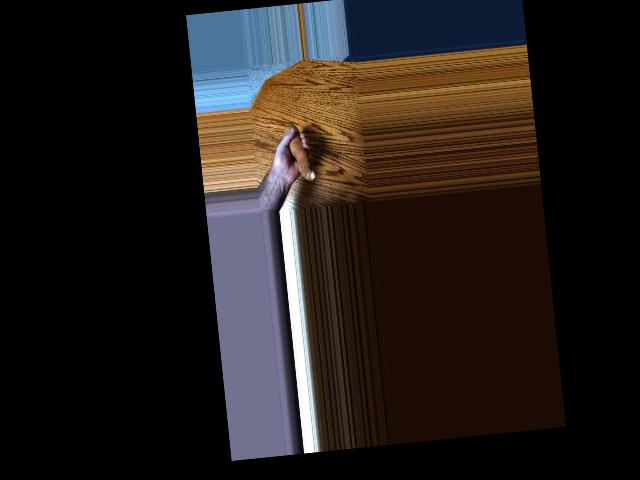sweet_potato: (285, 120, 315, 186)
